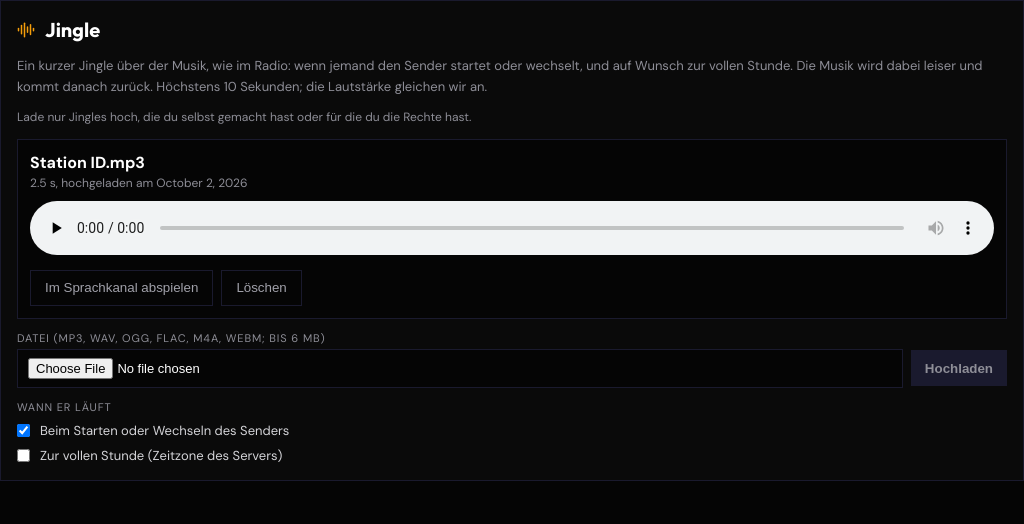
Test: the jingle card › saves each switch on its own, plays the jingle in Discord and deletes it
Check: the checkbox with test id "jingle-on-switch" is checked, box [17,424,30,437]
Step 1. Click the checkbox with test id "jingle-on-hour" → (24, 455), box [17,449,30,462]
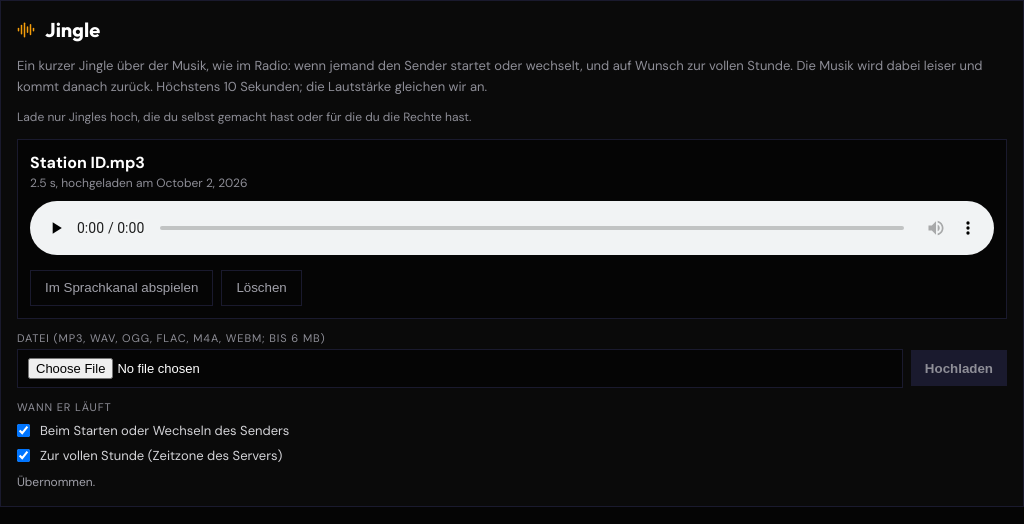
Check: the checkbox with test id "jingle-on-hour" is checked, box [17,449,30,462]
Step 2. Click the button with test id "jingle-play" → (122, 288), box [30,270,213,306]
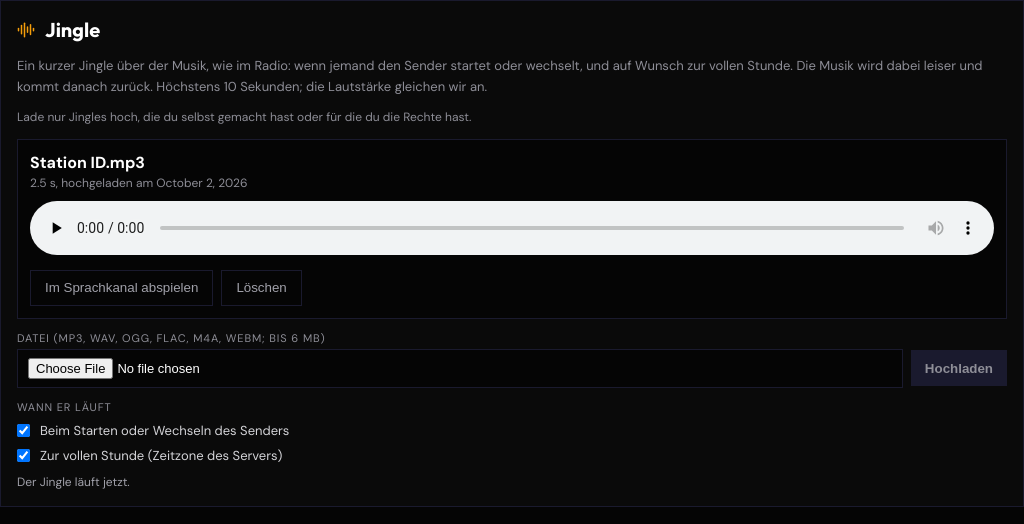
Check: the text with test id "jingle-note" reads "Der Jingle läuft jetzt.", box [17,474,130,490]
Step 3. Click the button with test id "jingle-delete" → (262, 288), box [221,270,302,306]
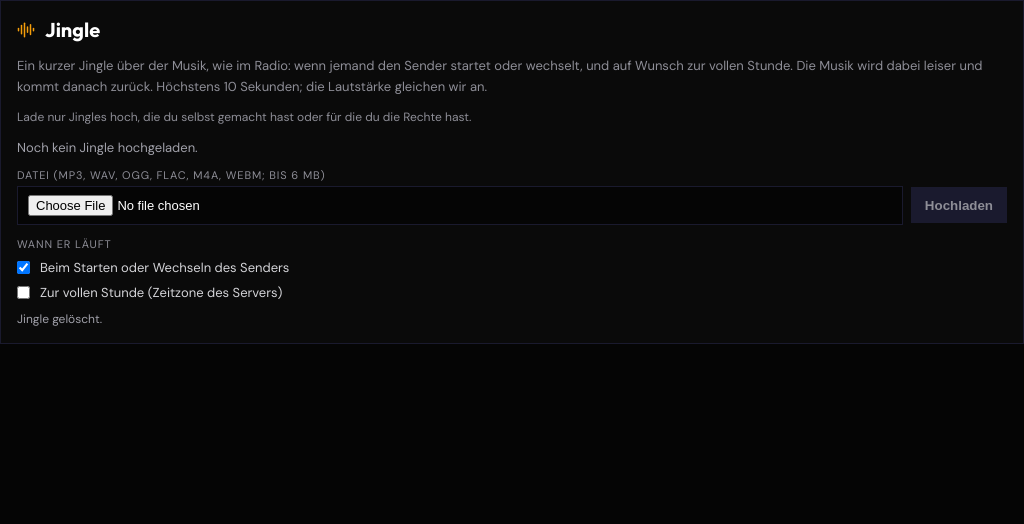
Check: the element with test id "jingle-current" is gone
Check: the text with test id "jingle-note" reads "Jingle gelöscht.", box [17,311,102,327]
